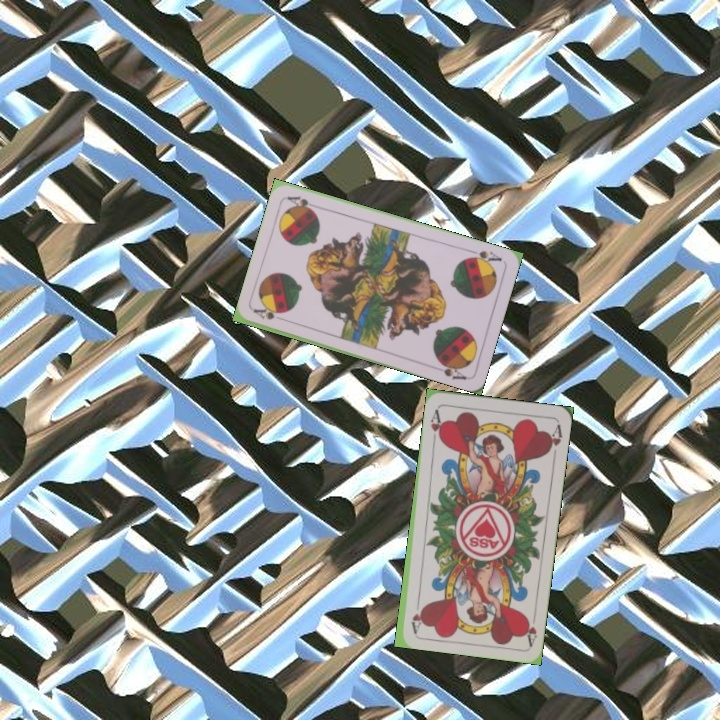HA: (520, 607, 539, 648), (426, 405, 445, 445)
SA: (463, 246, 504, 267), (250, 305, 290, 324)
